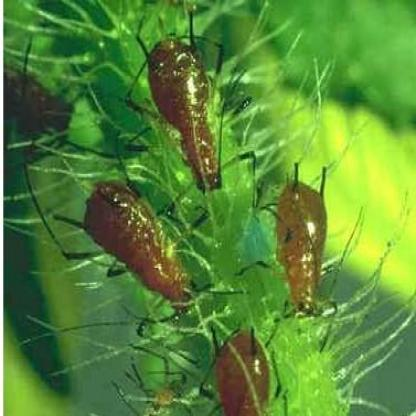aphid: (122, 21, 272, 197), (69, 164, 202, 313), (259, 162, 359, 334), (190, 311, 295, 416)
